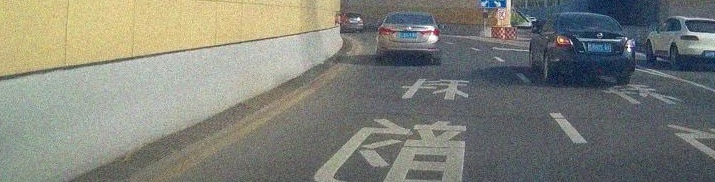L_light: (555, 35, 574, 46), (378, 27, 395, 34)
R_light: (421, 27, 439, 35), (623, 38, 635, 47)
T_light: (581, 15, 593, 18), (405, 14, 416, 16)
day-left: (553, 12, 636, 84)
day-no: (376, 11, 440, 65)
